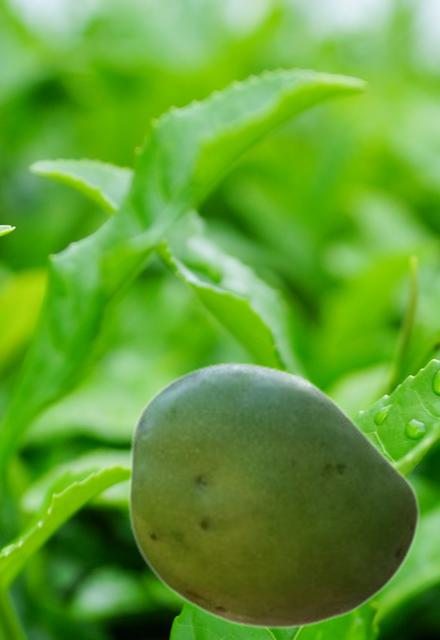green_mango: (127, 361, 419, 629)
